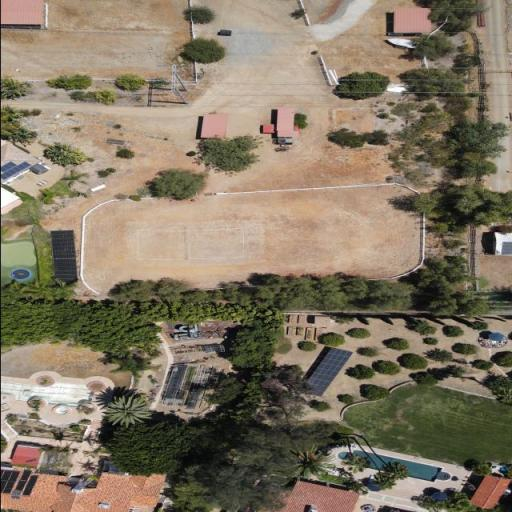solar-panel: (297, 348, 353, 397), (49, 230, 77, 283), (0, 161, 31, 180), (0, 469, 20, 494), (22, 475, 38, 496), (500, 242, 512, 255), (19, 470, 32, 481), (14, 480, 26, 491), (25, 459, 36, 463)
